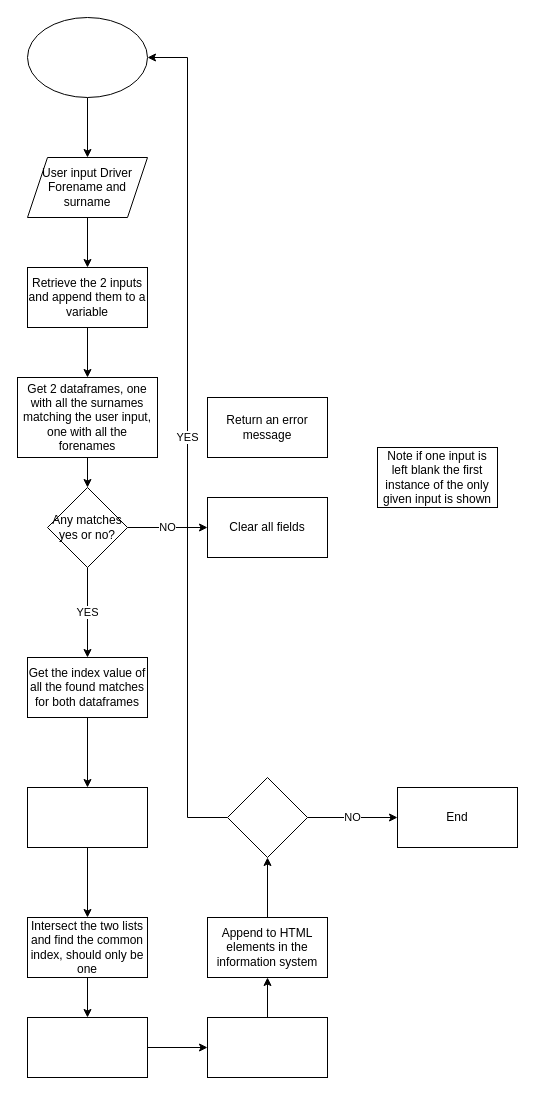
The diagram is 535 pixels wide and 1095 high, and some of its shapes have lost their labels. The shapes that lost their labels are listed below. From the top down, each one's centre as x and y in pixels, then its label:
the point at 87,57: Driver Index FX
the point at 87,817: Append them to a list each
the point at 267,817: Reset Filters
the point at 87,1047: Access that index in the orginal dataframe
the point at 267,1047: Retrieve the information and append it to variables, eg nationality
